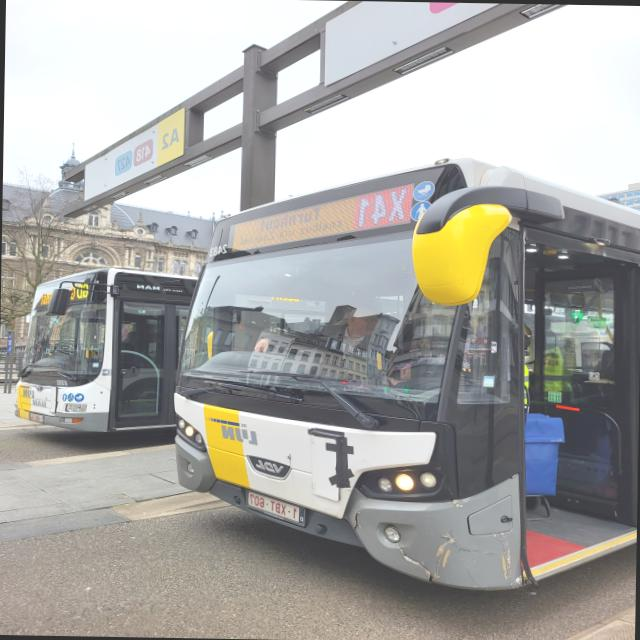bus-number: (356, 184, 410, 228)
